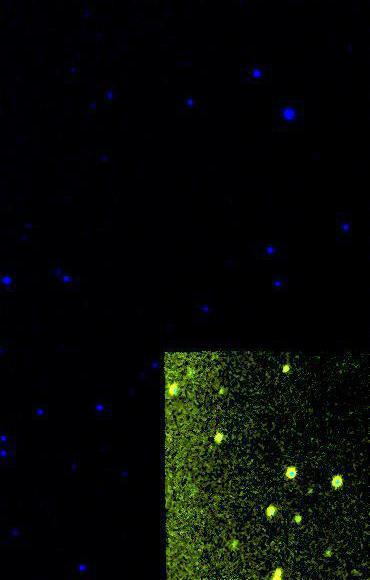star: (312, 540, 342, 570)
